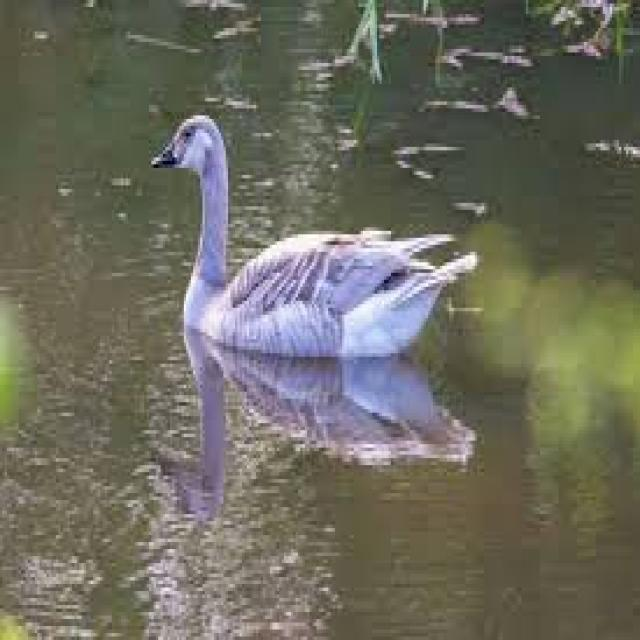Goose: (148, 115, 454, 376)
